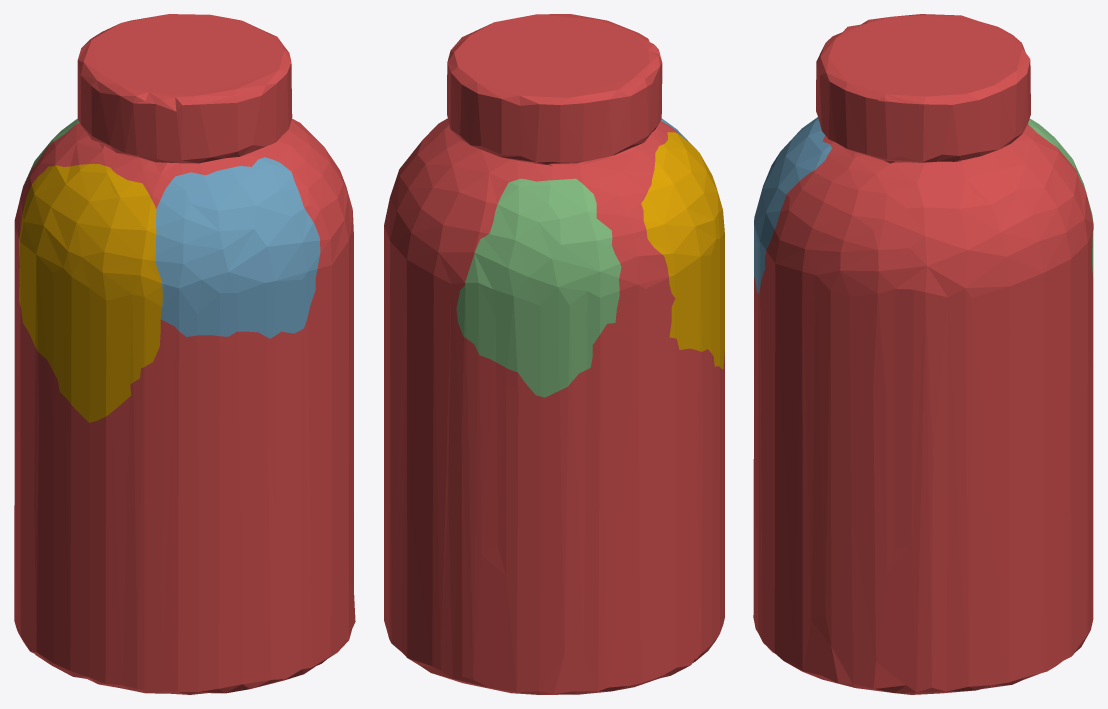
The model's file is mode_13_4pcs.glb.
3 views of the same model, side by side, from view 1: azimuth 30°, elevation 25°; view 2: azimuth 150°, elevation 25°; view 3: azimuth 270°, elevation 25° (orthographic).
Parts seen in each view (by area): view 1: piece_1.obj, piece_0.obj, piece_2.obj; view 2: piece_1.obj, piece_3.obj, piece_0.obj; view 3: piece_1.obj, piece_2.obj, piece_3.obj.
Boxes of the visible parts, <box> form: piece_1.obj: <box>14,14,355,694</box>; piece_0.obj: <box>19,164,162,422</box>; piece_2.obj: <box>155,157,320,338</box>; piece_1.obj: <box>384,14,724,694</box>; piece_3.obj: <box>456,178,621,397</box>; piece_0.obj: <box>641,132,724,369</box>; piece_1.obj: <box>753,14,1093,694</box>; piece_2.obj: <box>754,117,831,293</box>; piece_3.obj: <box>1028,118,1093,277</box>.
Size of the model in its own units: 0.5393 by 1 by 0.5392.
